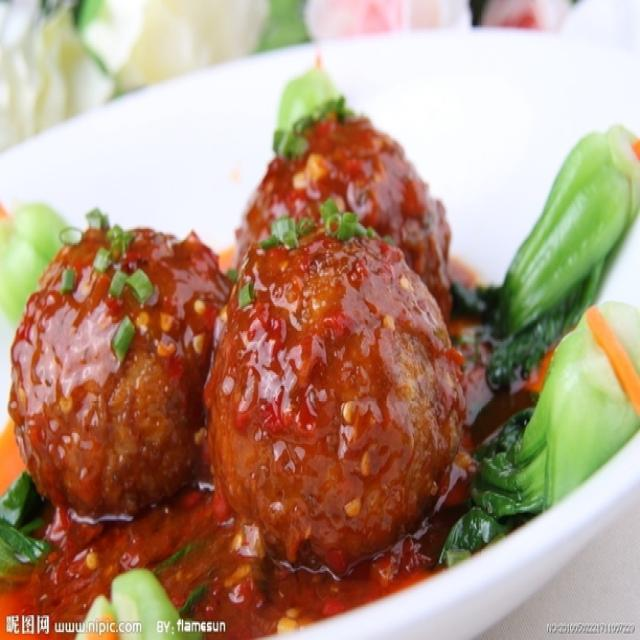猪肉菜式: (14, 35, 616, 621)
